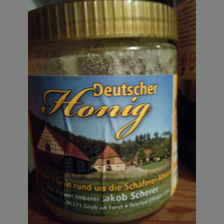honey: (28, 1, 180, 221)
